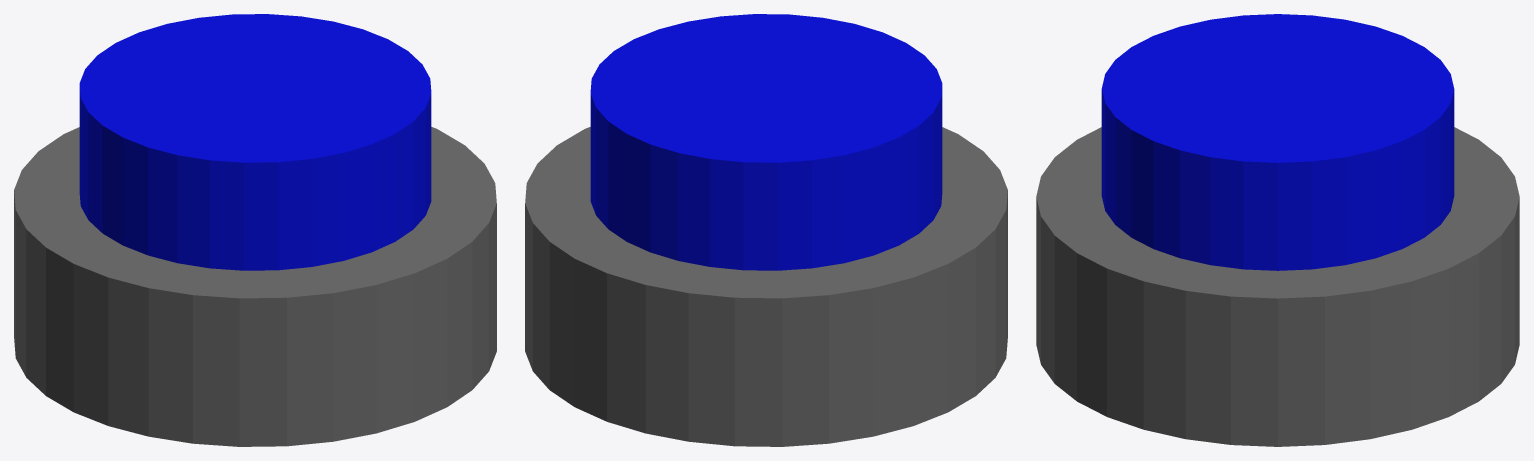
Rendered from BlueButton.glb.
3 renders of one model, left to right at view 1: azimuth 30°, elevation 25°; view 2: azimuth 150°, elevation 25°; view 3: azimuth 270°, elevation 25°, orthographic.
Parts seen in each view (by area): view 1: Base, Button; view 2: Base, Button; view 3: Base, Button.
Part boxes in pixels (<box>): Base: <box>14,127,496,446</box>; Button: <box>79,14,431,270</box>; Base: <box>525,127,1007,446</box>; Button: <box>590,14,942,270</box>; Base: <box>1036,127,1519,446</box>; Button: <box>1101,14,1454,270</box>.
Size of the model in its own units: 0.9081 by 0.5316 by 0.9081.
